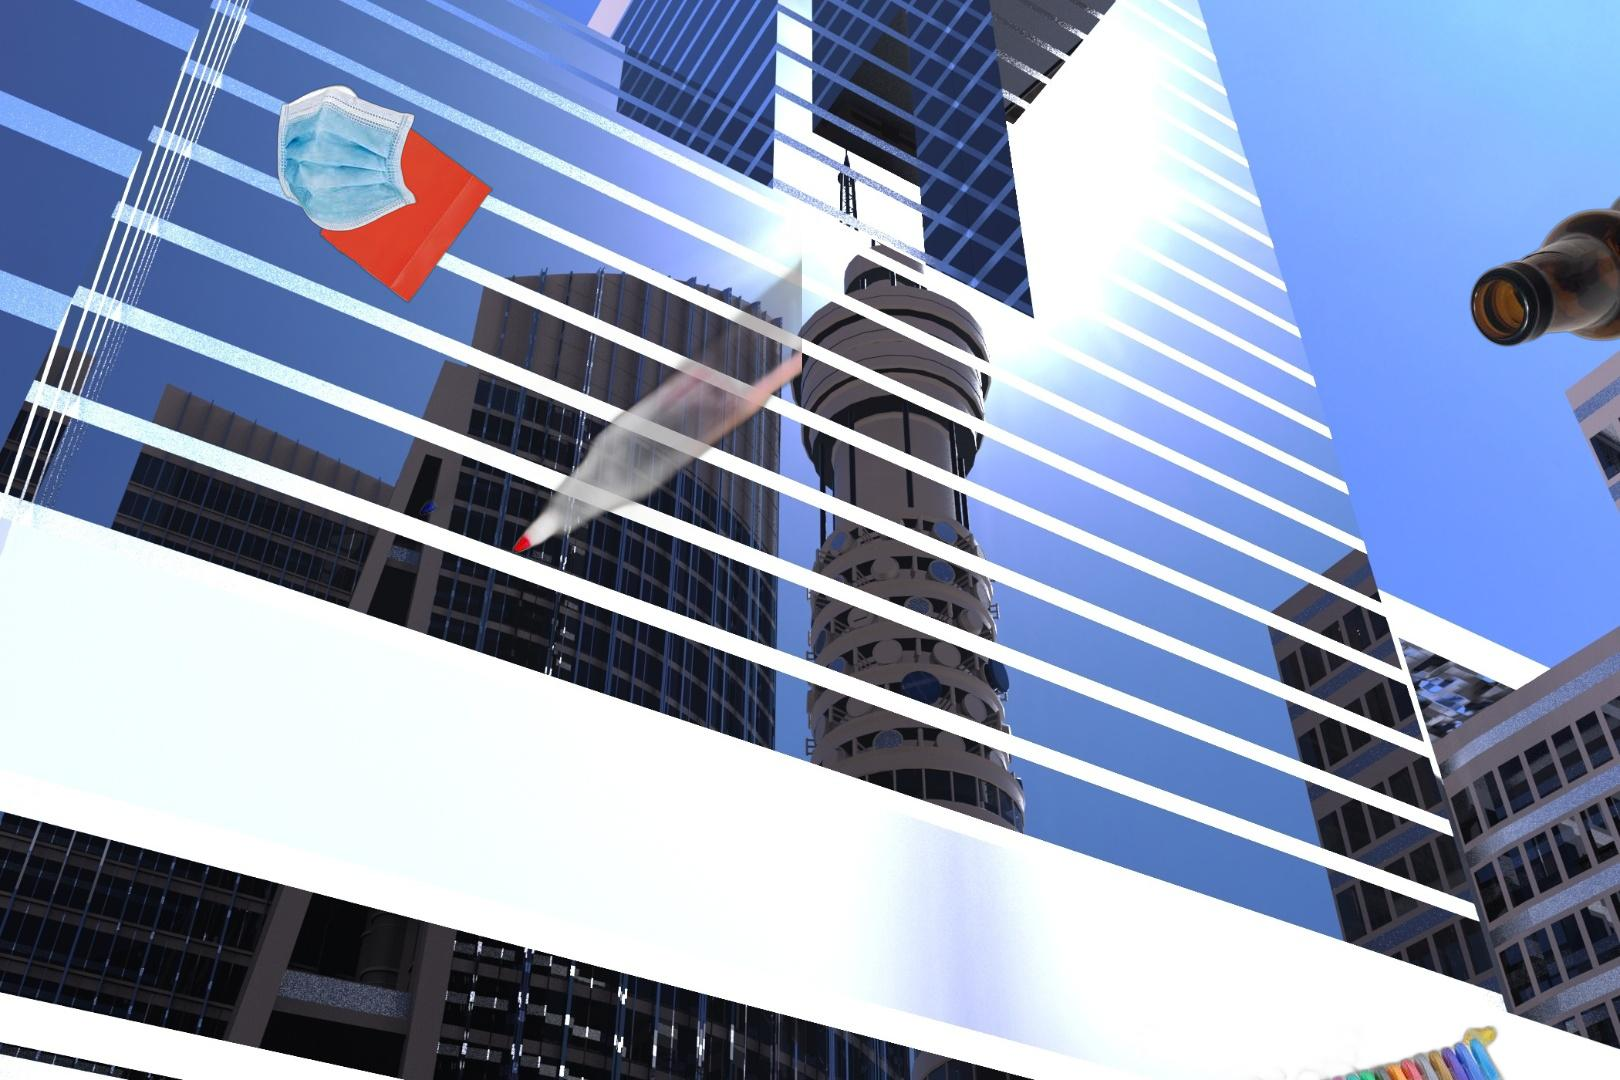glass: (1466, 182, 1620, 350)
paper-bag: (317, 122, 495, 310)
penholder: (416, 155, 802, 591), (1127, 1023, 1620, 1080)
trash: (274, 83, 477, 234)
